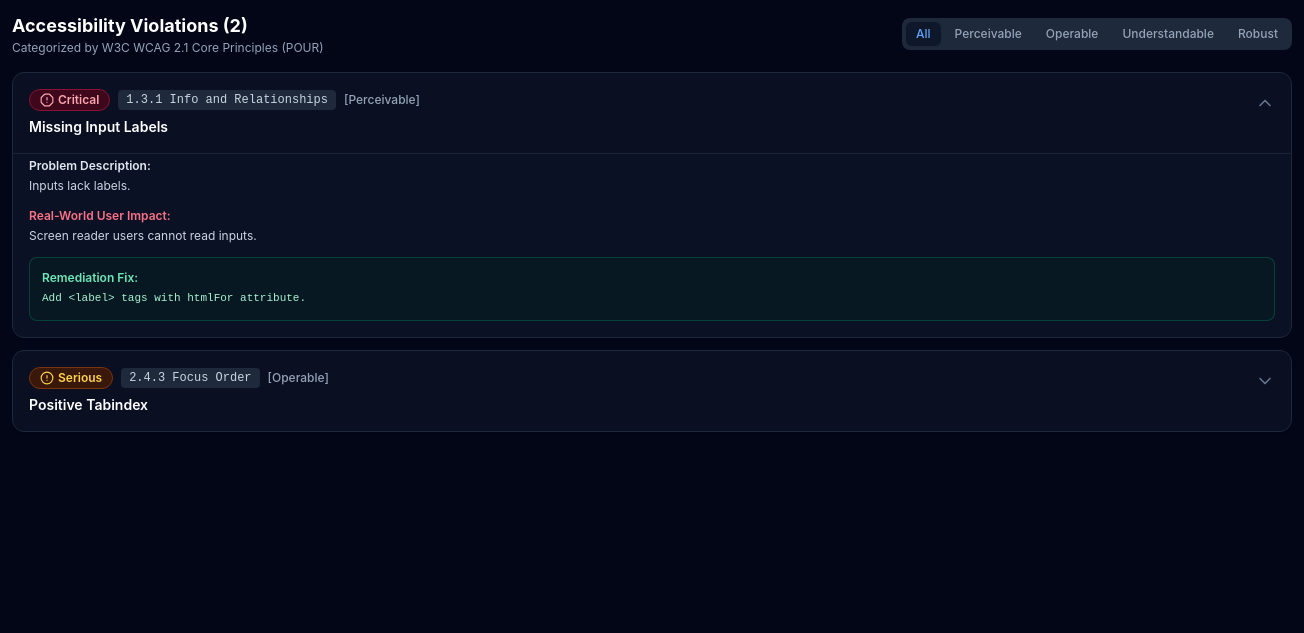
Test case: IssuesList Component › toggles issue description when clicked
The image size is (1304, 633).
Click the button "Serious 2.4.3 Focus Order [Operable] Positive Tabindex" at coordinates (71, 378), box [13, 351, 1291, 431]
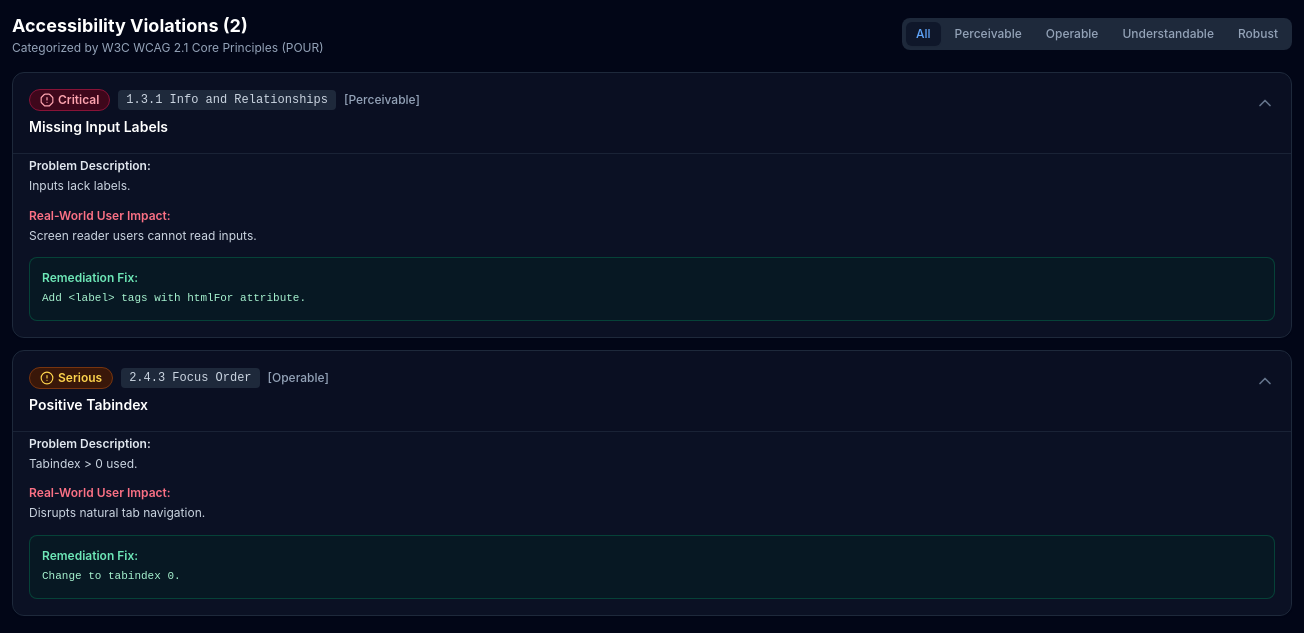
Expected: the text "Change to tabindex 0." is shown, [42, 570, 181, 582]
